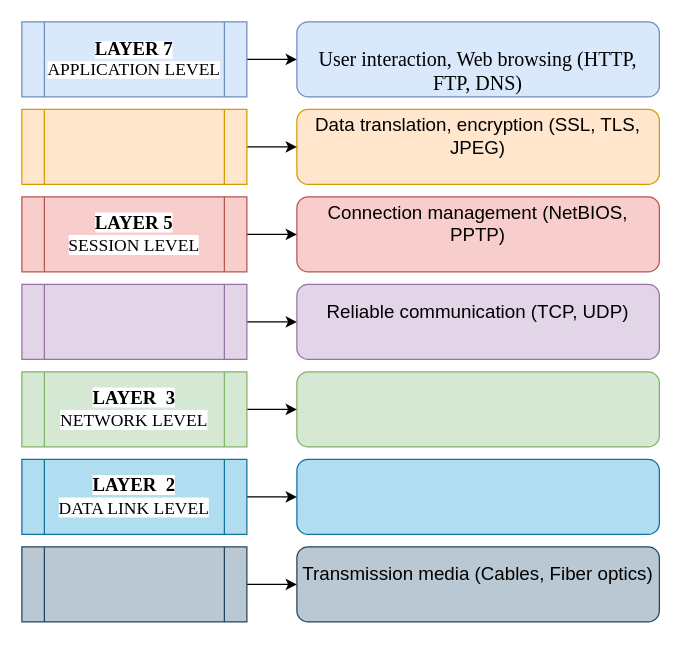
Some shapes in this 681 by 651 pixel diagram are drawn without their labels. Here are the shapes that lost their labels. From the top down, the centre of each, then its label:
At (134,146): "LAYER 6 PRESENTATION LEVEL".
At (134,321): "LAYER 4 TRANSPORT LEVEL".
At (477,409): "Routing, addressing (IP, ICMP, ARP)".
At (477,496): "MAC addressing, error detection (Ethernet, Wi-Fi)".
At (134,584): "LAYER 1 PHYSICAL LEVEL".
